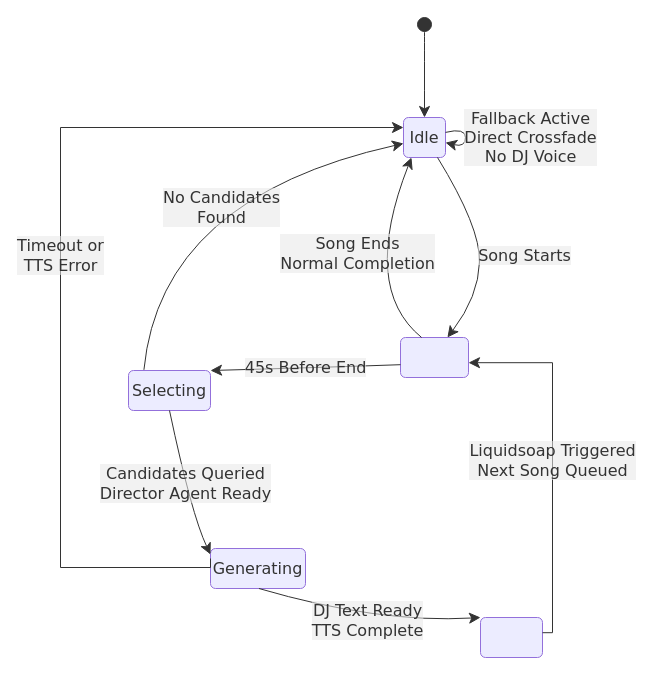
Image size: 653x675. Some labels were removed from this diagram. The shapes that lost their labels are listed below. From the top down, each one's box as (x1, y1, x2, y2) in pixels, then its label:
(400, 336, 468, 378): Playing
(480, 616, 542, 658): Ready
